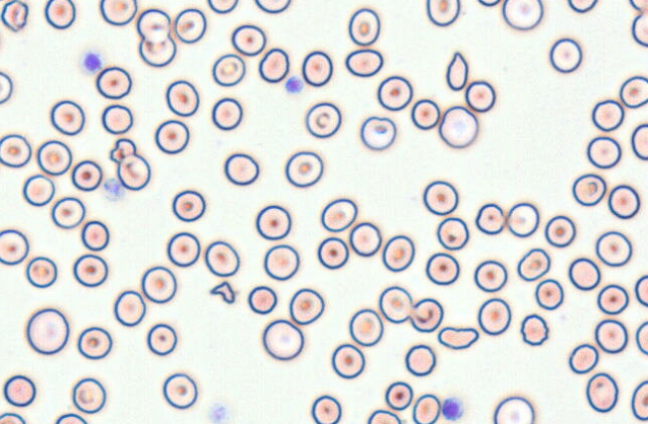PLT: (443, 396, 464, 421), (83, 51, 104, 74), (285, 75, 306, 94)
RBC: (25, 307, 69, 355), (261, 318, 304, 360), (438, 105, 478, 148), (284, 150, 323, 188), (595, 230, 632, 267), (304, 101, 341, 138), (288, 287, 324, 325), (141, 265, 177, 303), (585, 372, 618, 413), (204, 240, 240, 277), (162, 372, 198, 409), (348, 308, 383, 346), (263, 244, 299, 280), (255, 204, 291, 240), (36, 139, 72, 175), (49, 99, 85, 135), (377, 75, 413, 111), (320, 197, 357, 232), (71, 377, 106, 414), (359, 115, 396, 150), (378, 285, 412, 323), (381, 234, 415, 272), (477, 297, 511, 335), (501, 0, 543, 30), (422, 180, 458, 215), (165, 79, 199, 116), (113, 289, 146, 327), (348, 7, 380, 46), (154, 119, 189, 154), (331, 343, 365, 379), (348, 221, 382, 257), (166, 231, 200, 267), (72, 253, 108, 287), (117, 153, 150, 190), (95, 66, 132, 99), (138, 35, 176, 67), (136, 8, 171, 42), (409, 297, 443, 332), (594, 318, 628, 353), (586, 135, 621, 169), (223, 152, 259, 185), (173, 7, 206, 43), (549, 37, 582, 73), (516, 247, 550, 281), (50, 196, 85, 229), (77, 326, 112, 359), (607, 184, 640, 219), (506, 202, 539, 237), (231, 23, 266, 56), (301, 50, 333, 86), (493, 395, 534, 423), (344, 48, 383, 77), (425, 252, 459, 285), (436, 216, 469, 250), (211, 53, 245, 86), (572, 173, 606, 206), (473, 259, 507, 292), (171, 189, 205, 222), (258, 47, 289, 83), (3, 374, 36, 407), (568, 257, 601, 290), (22, 173, 55, 206), (0, 133, 31, 168), (0, 228, 29, 265), (25, 255, 57, 288), (404, 343, 436, 376), (317, 236, 349, 269), (596, 283, 629, 315), (591, 99, 624, 131), (211, 97, 243, 130), (544, 215, 576, 247), (146, 323, 177, 356), (464, 80, 495, 112), (71, 159, 102, 191), (101, 103, 133, 134), (99, 0, 137, 26), (568, 343, 599, 374), (534, 278, 564, 310), (410, 98, 440, 130), (475, 202, 505, 234), (520, 313, 549, 346), (44, 0, 76, 29), (80, 219, 109, 251), (619, 75, 647, 108), (310, 394, 341, 423), (384, 380, 413, 411), (426, 0, 460, 26), (247, 285, 277, 314), (412, 393, 441, 423), (631, 380, 647, 421), (631, 123, 647, 160), (631, 13, 647, 47), (366, 409, 401, 423), (254, 0, 291, 13), (206, 0, 238, 14), (634, 274, 647, 307), (635, 320, 647, 355), (0, 70, 12, 104), (567, 0, 598, 13), (54, 412, 88, 423), (0, 412, 26, 423), (628, 0, 648, 13), (476, 0, 500, 7)
Schistocyte: (437, 326, 480, 350), (0, 0, 29, 33), (447, 51, 468, 91), (110, 138, 137, 162), (209, 280, 235, 304)
